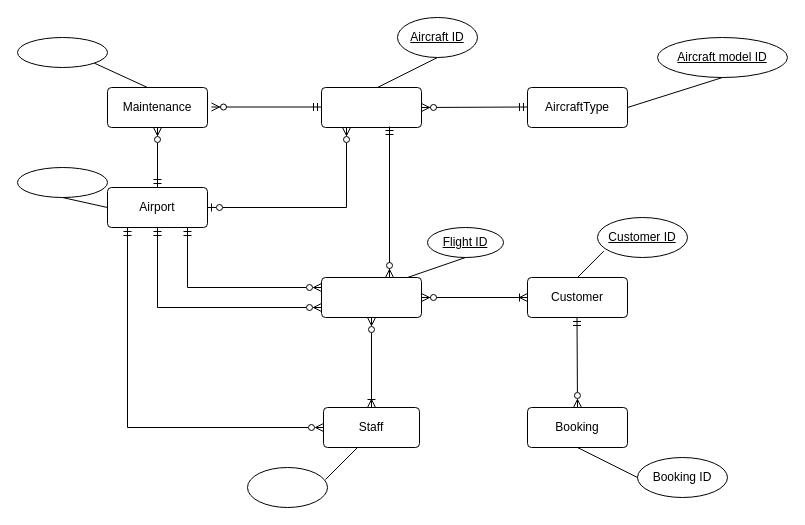
The diagram is 805 pixels wide and 525 high, and some of its shapes have lost their labels. The centre of each missing label's shape, as x and y in pixels:
"Aircraft" goes at [371,107].
"Airport ID" goes at [62,182].
"Event ID" goes at [62,52].
"Flight" goes at [371,297].
"Staff ID" goes at [287,487].
